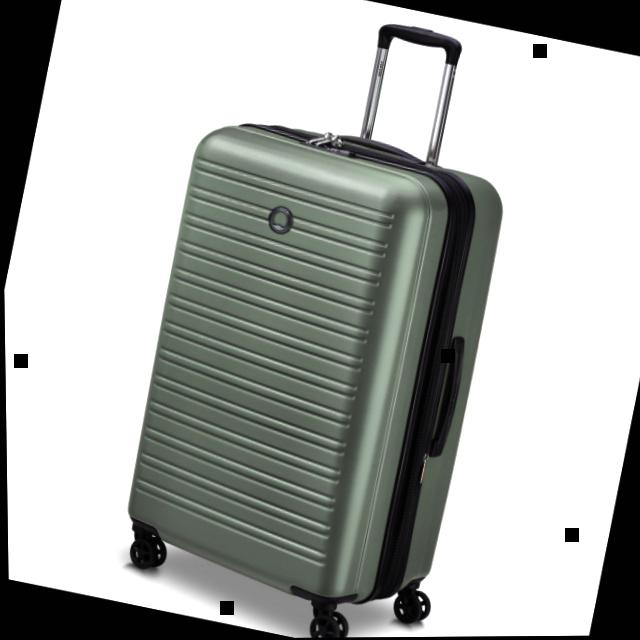luggage: (90, 90, 533, 639)
